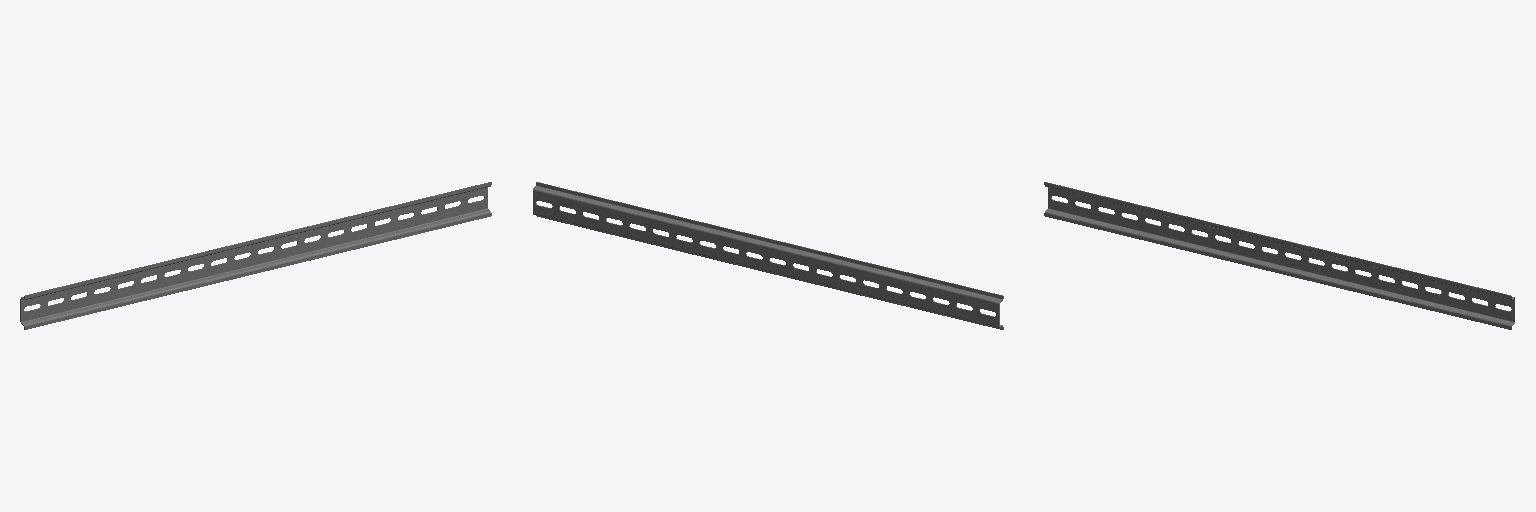
URDF robot description (rail.urdf):
<?xml version="0.0" ?>
<robot name="rail.urdf">
  <link name="baseLink">
    <contact>
      <lateral_friction value=".5"/>
    </contact>
    <inertial>
      <origin rpy="0 0 0" xyz="0 0 0"/>
       <mass value=".05"/>
       <inertia ixx="1" ixy="0" ixz="0" iyy="1" iyz="0" izz="1"/>
    </inertial>
    <visual>
      <origin rpy="1.57 0 0" xyz="0 0 0"/>
      <geometry>
		<mesh filename="Rail.obj" scale="10 10 10"/>
      </geometry>
       <material name="gray">
        <color rgba="0.5 0.5 0.5 1"/>
      </material>
    </visual>
    <collision>
      <origin rpy="1.57 0 0" xyz="0 0 0"/>
      <geometry>
	 	<mesh filename="Rail_Coll.obj" scale="10 10 10"/>
      </geometry>
    </collision>
  </link>
</robot>

--- Render facts (derived) ---
The picture shows the robot from 3 angles, left to right: view 1: azimuth 30°, elevation 25°; view 2: azimuth 150°, elevation 25°; view 3: azimuth 330°, elevation 25°; orthographic projection.
Model rail.urdf with 1 links and 0 joints (none), rooted at baseLink, posed every joint at zero.
Visible links, largest first — view 1: baseLink; view 2: baseLink; view 3: baseLink.
Boxes of the visible links, x1,y1,x2,y2 form: baseLink: (20, 182, 491, 329); baseLink: (533, 182, 1003, 329); baseLink: (1044, 182, 1514, 329).
Bounding box of the posed robot: 5 × 0.0752 × 0.35 m (x, y, z).
Meshes: 1 distinct files referenced, 1 mesh visuals loaded (1 OBJ).